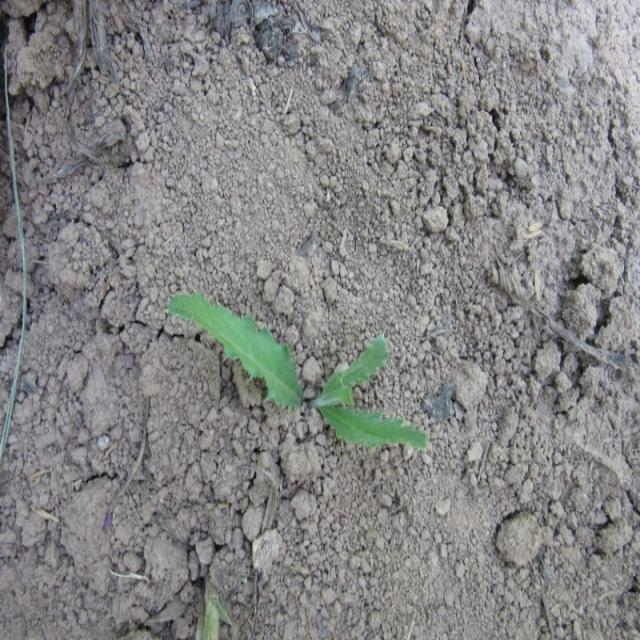field_thistle: (154, 280, 447, 487)
